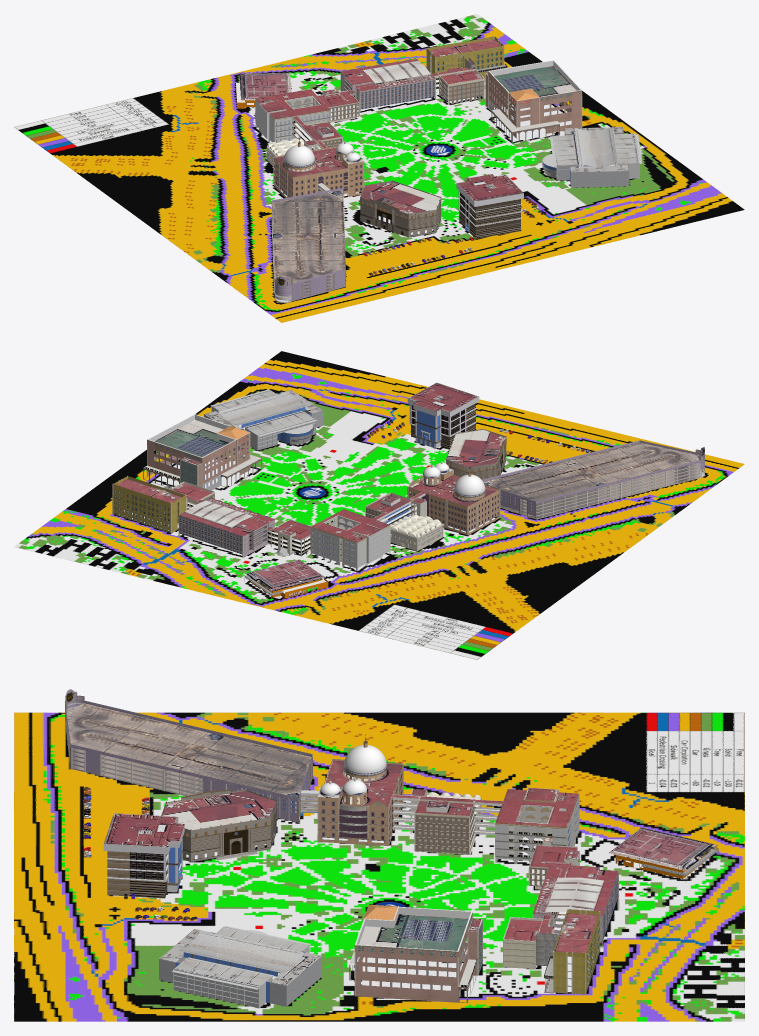
Rendered from ccm_mdp_notrees.obj.
3 renders of one model, top to bottom at view 1: azimuth 30°, elevation 25°; view 2: azimuth 150°, elevation 25°; view 3: azimuth 270°, elevation 25°, orthographic. The views are drawn at different scales.
Visible parts, largest first — view 1: ccm4, ccm14, ccm10, ccm3, ccm2, ccm, ccm8, ccm9, ccm6, ccm1, ccm12, ccm5 (+3 smaller); view 2: ccm4, ccm14, ccm10, ccm3, ccm2, ccm9, ccm6, ccm8, ccm1, ccm, ccm5, ccm7 (+3 smaller); view 3: ccm4, ccm14, ccm10, ccm3, ccm2, ccm, ccm8, ccm6, ccm13, ccm1, ccm9, ccm5 (+3 smaller).
Boxes of the visible parts, x1,y1,x2,y2 form: ccm4: (14, 14, 744, 322); ccm14: (271, 183, 345, 303); ccm10: (485, 60, 582, 143); ccm3: (541, 127, 642, 187); ccm2: (273, 137, 364, 197); ccm: (360, 180, 441, 237); ccm8: (456, 174, 523, 238); ccm9: (340, 58, 435, 112); ccm6: (255, 89, 330, 142); ccm1: (426, 36, 507, 87); ccm12: (431, 67, 484, 104); ccm5: (236, 72, 291, 108); ccm4: (14, 351, 744, 659); ccm14: (482, 440, 704, 519); ccm10: (143, 414, 261, 490); ccm3: (204, 389, 323, 450); ccm2: (407, 461, 500, 535); ccm9: (178, 497, 274, 557); ccm6: (310, 509, 390, 571); ccm8: (407, 382, 479, 448); ccm1: (112, 476, 186, 533); ccm: (445, 429, 506, 479); ccm5: (244, 559, 328, 599); ccm7: (390, 498, 443, 551); ccm4: (14, 712, 744, 1021); ccm14: (65, 689, 319, 822); ccm10: (349, 904, 482, 1003); ccm3: (159, 926, 321, 1008); ccm2: (317, 734, 403, 845); ccm: (161, 788, 276, 862); ccm8: (103, 813, 184, 898); ccm6: (495, 787, 579, 863); ccm13: (392, 794, 503, 854); ccm1: (536, 909, 600, 994); ccm9: (532, 865, 618, 946); ccm5: (608, 827, 718, 881).
Size of the model in its own units: 20000 by 2396 by 20000.
Materials: 27 (27 with a texture image).
